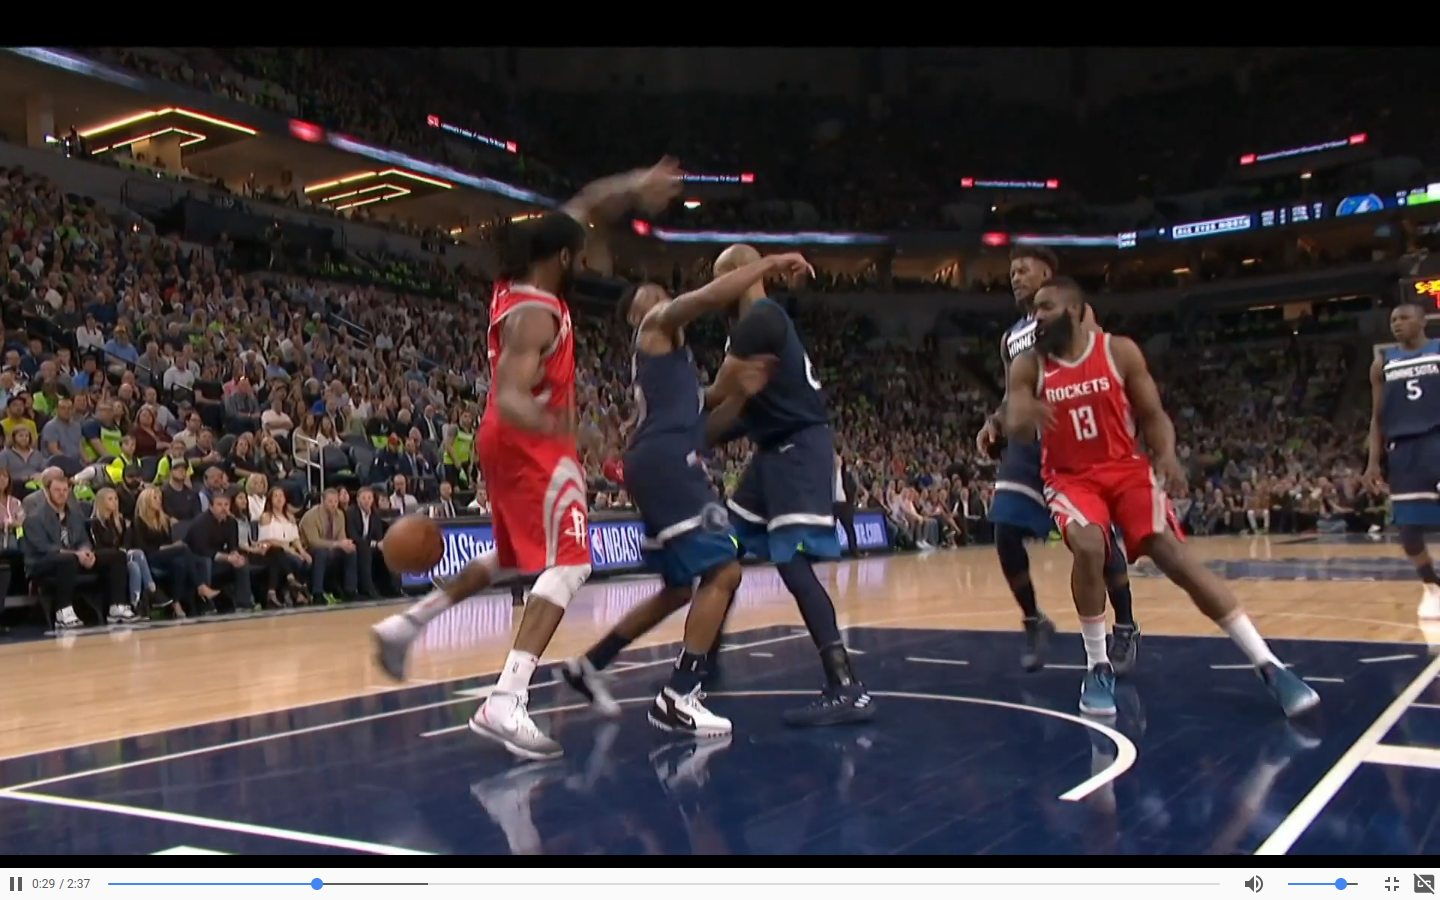basketball: (376, 511, 450, 579)
basketball player: (1033, 291, 1316, 731), (715, 202, 875, 732), (470, 172, 601, 742), (613, 265, 762, 729), (978, 229, 1056, 694), (1365, 296, 1438, 682)
